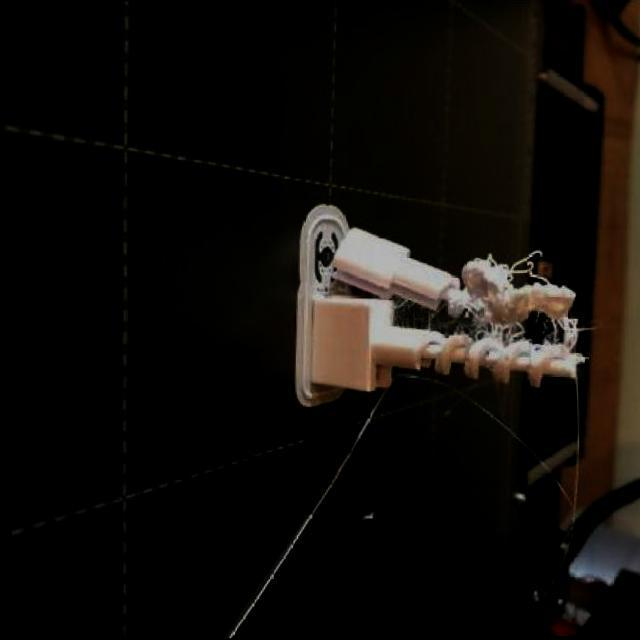spaghetti: (426, 248, 597, 395)
